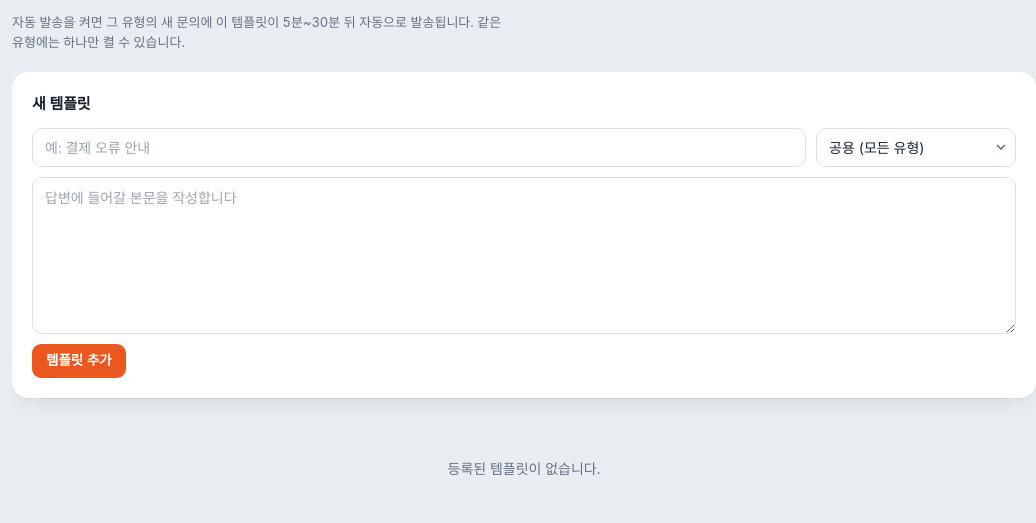
it: TemplateManager › keeps the input and shows an error when saving fails
Type "점검 안내" into the field named "템플릿 제목" at (419, 147), box left=32, top=128, right=806, bottom=167
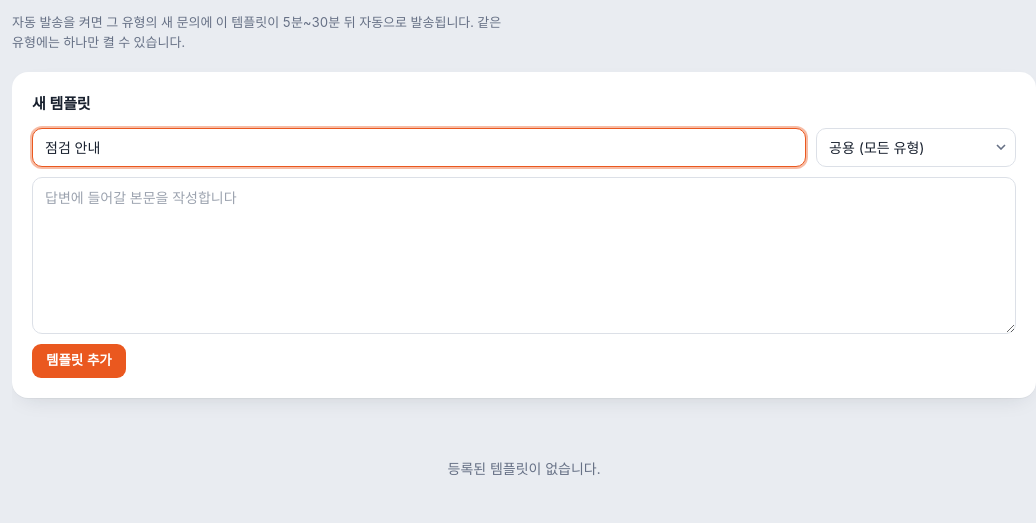
Type "본문" into the text box named "템플릿 내용" at (524, 256), box left=32, top=177, right=1016, bottom=334
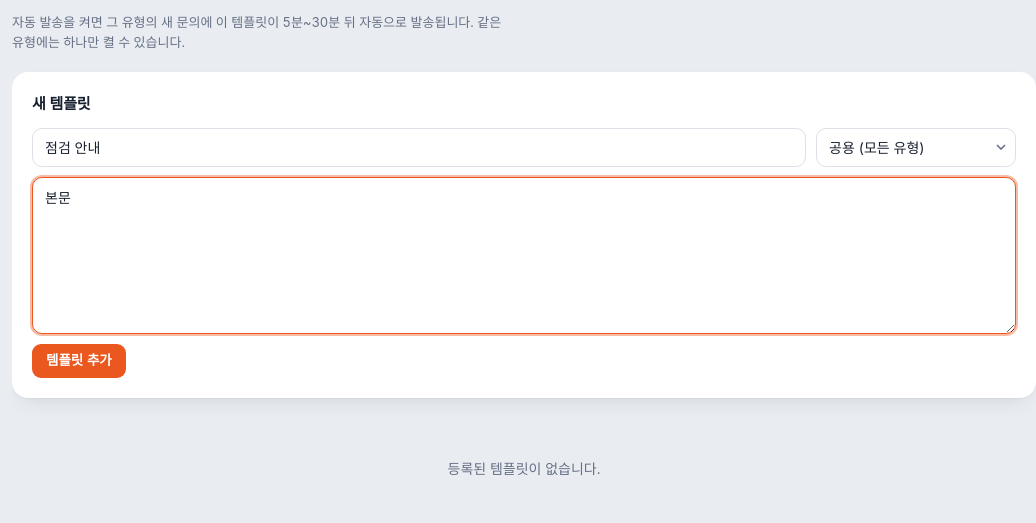
Click the button "템플릿 추가" at (79, 361), box left=32, top=344, right=126, bottom=378
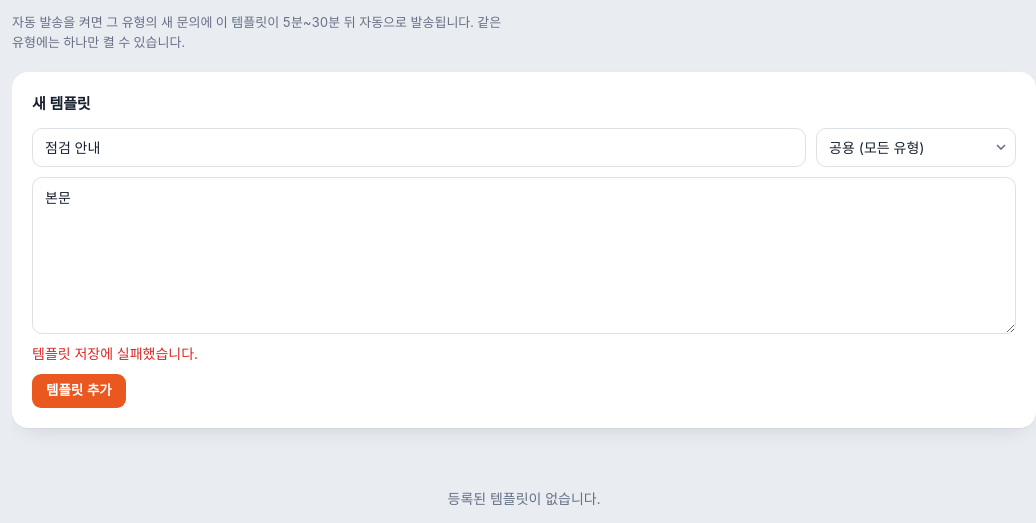
Result: the text "템플릿 저장에 실패했습니다." is shown at left=32, top=345, right=198, bottom=362
